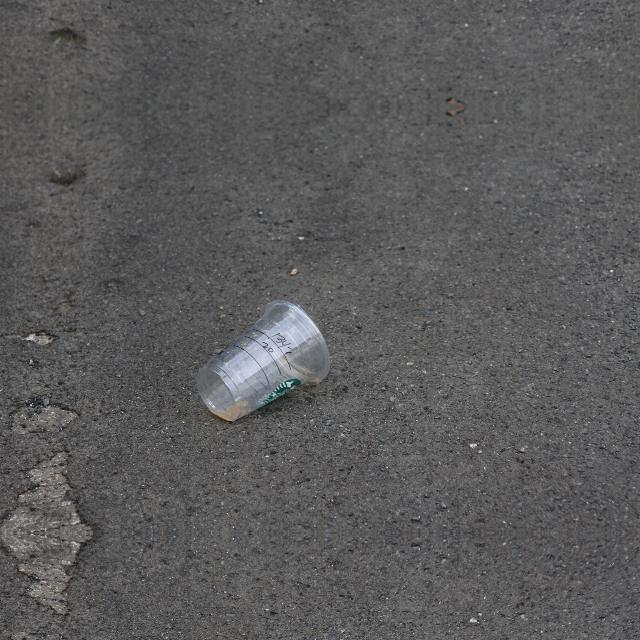Plastic: (194, 297, 332, 423)
